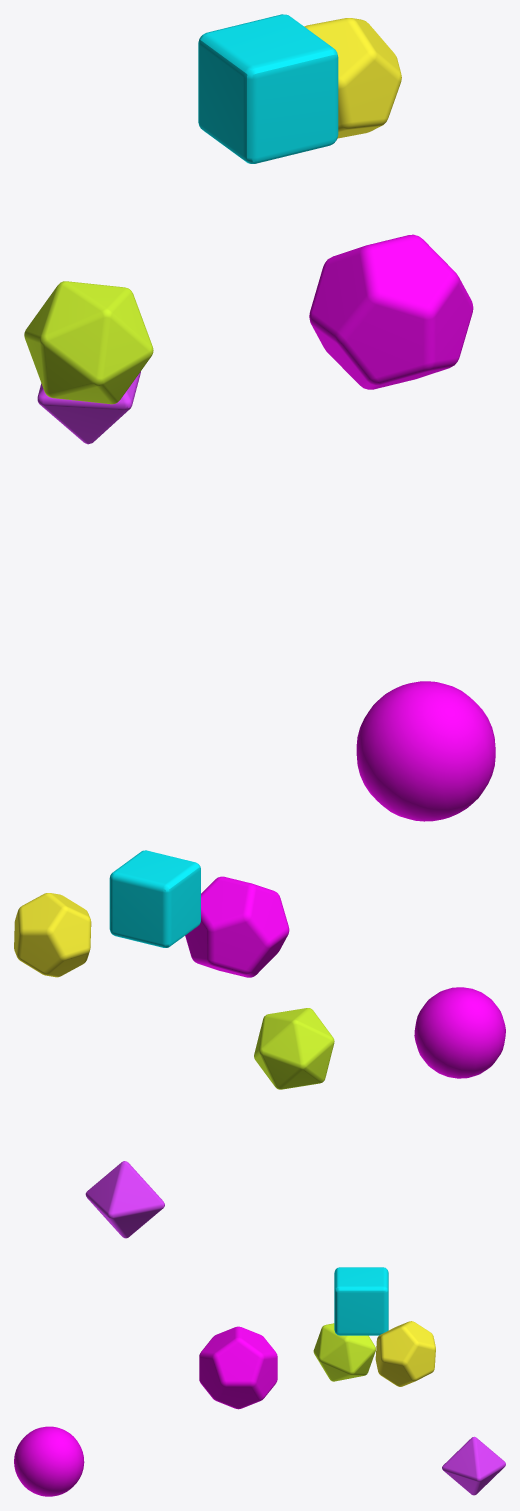
File: formas_animadas_prev.glb
The picture shows the model from 3 angles, top to bottom: view 1: azimuth 30°, elevation 25°; view 2: azimuth 150°, elevation 25°; view 3: azimuth 270°, elevation 25°; orthographic projection. The views are drawn at different scales.
Visible parts, largest first — view 1: dodecaedro_centro2, cubo, esfera, icosaedro, dodecaedro, octaedro; view 2: dodecaedro_centro2, cubo, esfera, dodecaedro, icosaedro, octaedro; view 3: dodecaedro_centro2, esfera, cubo, dodecaedro, icosaedro, octaedro.
Part boxes in pixels (left/top/right/bottom): dodecaedro_centro2: left=309, top=234, right=473, bottom=389; cubo: left=198, top=14, right=338, bottom=163; esfera: left=356, top=681, right=495, bottom=821; icosaedro: left=24, top=281, right=153, bottom=404; dodecaedro: left=304, top=18, right=401, bottom=138; octaedro: left=37, top=371, right=140, bottom=444; dodecaedro_centro2: left=185, top=876, right=289, bottom=977; cubo: left=109, top=850, right=200, bottom=947; esfera: left=414, top=987, right=505, bottom=1078; dodecaedro: left=14, top=893, right=91, bottom=977; icosaedro: left=254, top=1008, right=334, bottom=1089; octaedro: left=85, top=1161, right=164, bottom=1238; dodecaedro_centro2: left=199, top=1326, right=277, bottom=1409; esfera: left=14, top=1426, right=84, bottom=1496; cubo: left=334, top=1267, right=388, bottom=1335; dodecaedro: left=375, top=1321, right=435, bottom=1386; icosaedro: left=313, top=1323, right=375, bottom=1381; octaedro: left=442, top=1436, right=505, bottom=1495.
Size of the model in its own units: 0.0691 by 0.0798 by 0.14.
